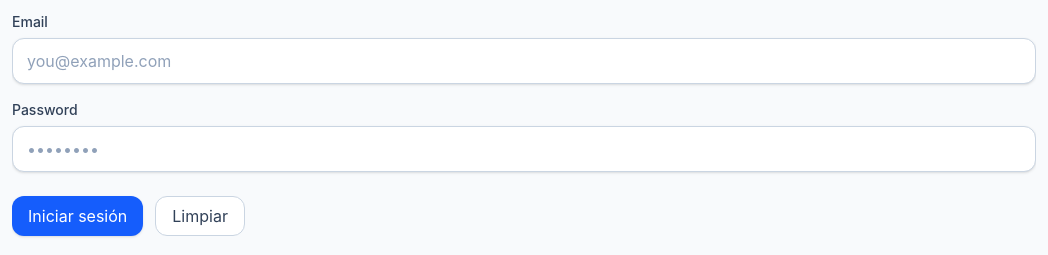
it: SignIn › clears fields on reset
Type "test@example.com" into the field labelled "Email" at (524, 61), box [12, 38, 1036, 84]
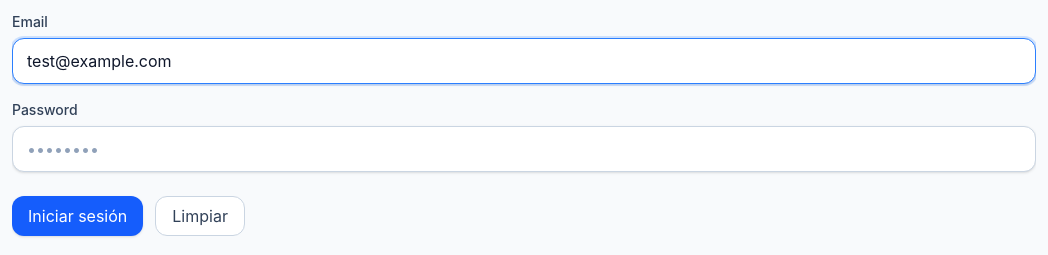
Click the button "Limpiar" at (200, 216), box [155, 196, 245, 236]
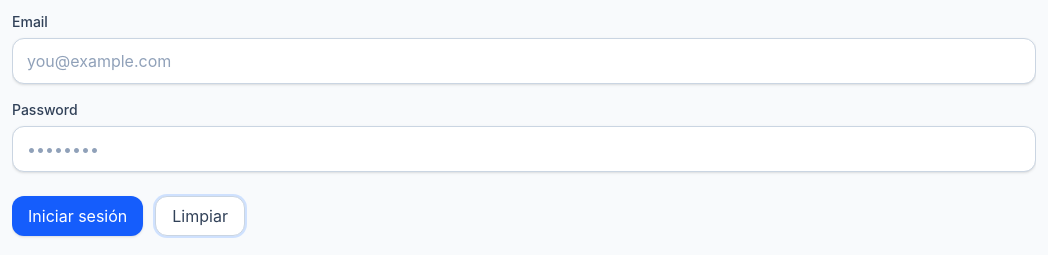
expect the field labelled "Email" is empty: met, box [12, 38, 1036, 84]
